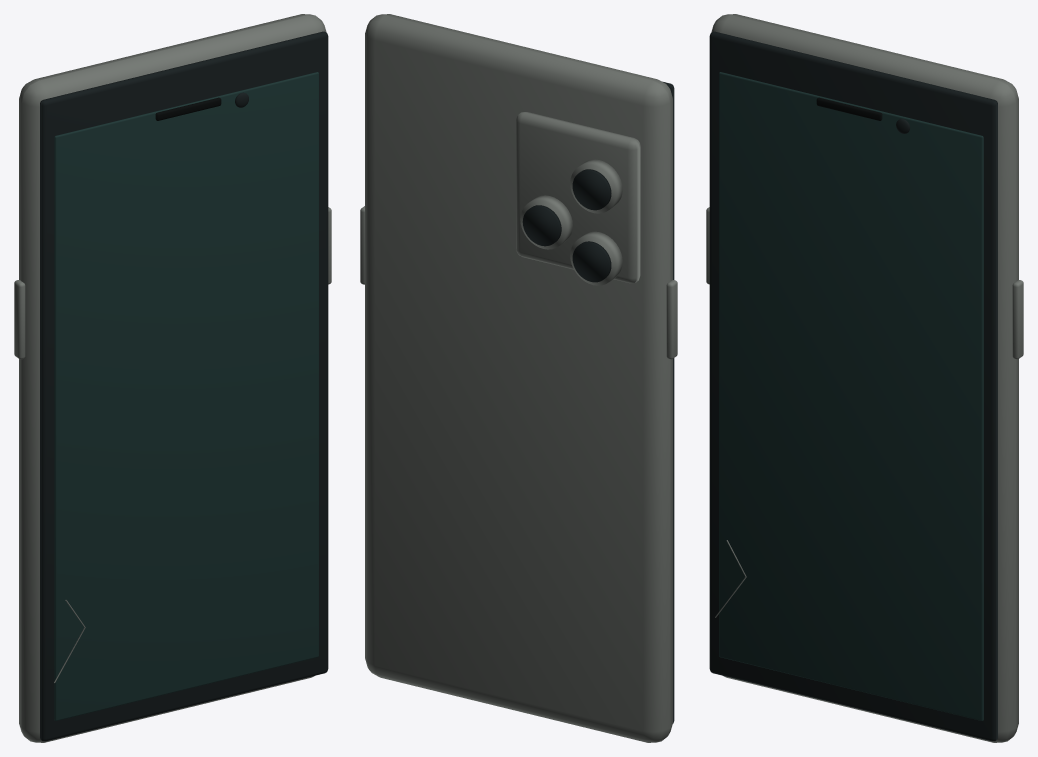
File: guard-phone.glb
3 views of the same model, side by side, from view 1: azimuth 30°, elevation 25°; view 2: azimuth 150°, elevation 25°; view 3: azimuth 330°, elevation 25° (orthographic).
Visible parts, largest first — view 1: Phone; view 2: Phone; view 3: Phone.
Part boxes in pixels (x1=…): Phone: x1=14, y1=14, x2=331, y2=742; Phone: x1=360, y1=14, x2=677, y2=742; Phone: x1=706, y1=14, x2=1023, y2=742.
Size of the model in its own units: 0.0818 by 0.1653 by 0.0202.
